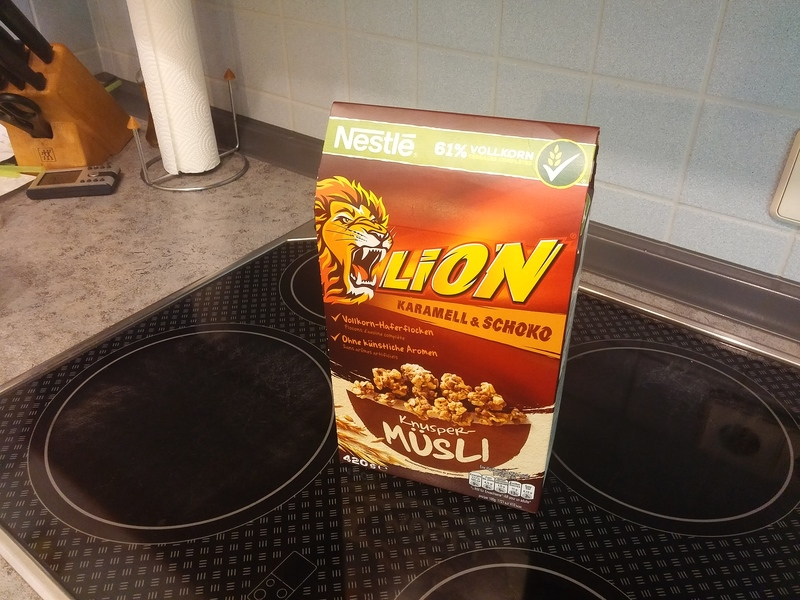cereals: (313, 99, 601, 516)
